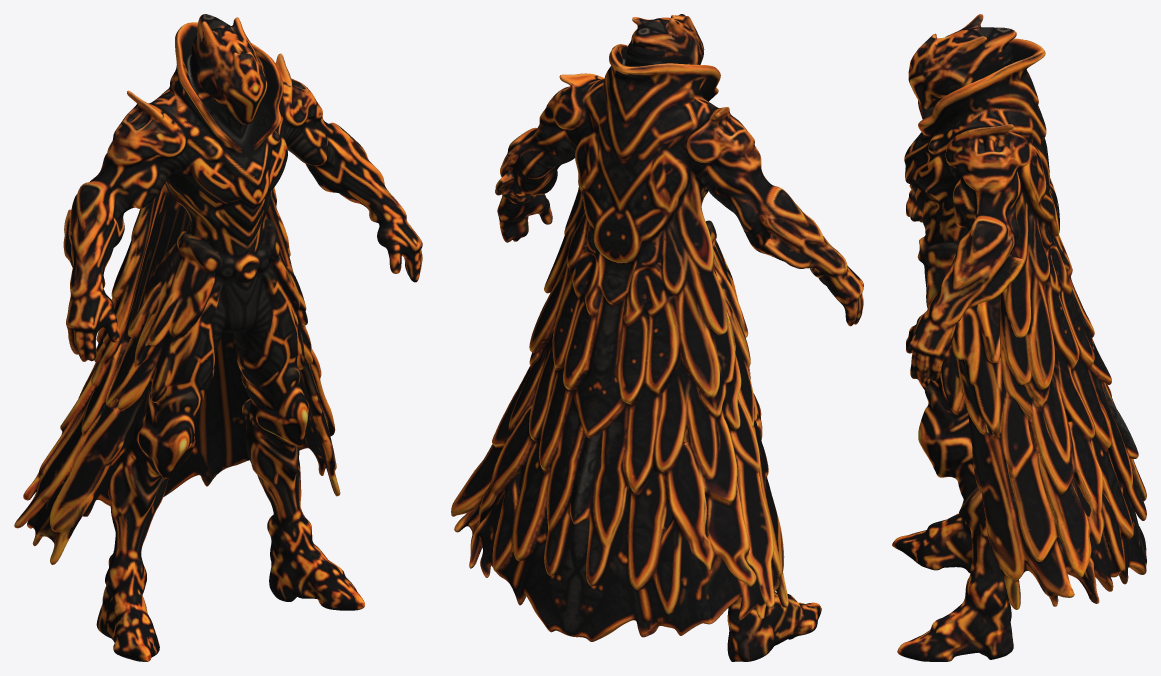
File: drakos_n5.glb
3 views of the same model, side by side, from view 1: azimuth 30°, elevation 25°; view 2: azimuth 150°, elevation 25°; view 3: azimuth 270°, elevation 25° (orthographic). The views are drawn at different scales.
Bounding box in the file's own units: 1.16 × 1.9 × 0.7348.
Materials: 1 (1 with a texture image).
